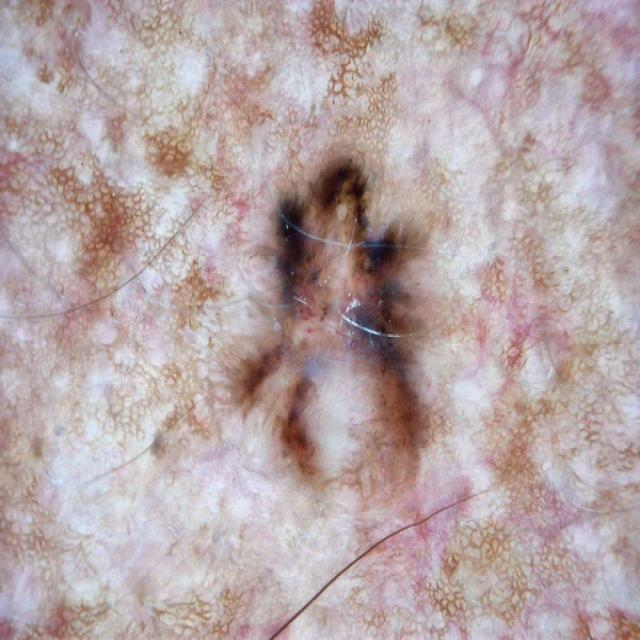Basal-Cell-Carcinoma-BCC-: (219, 146, 500, 549)
